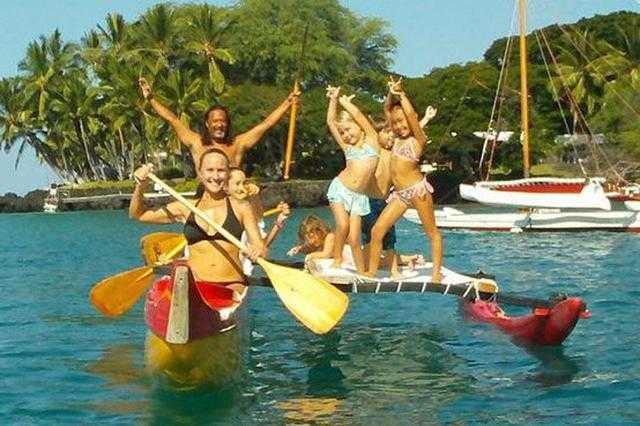kayak: (459, 2, 626, 211), (142, 233, 252, 347), (305, 256, 498, 297), (459, 178, 612, 210), (511, 209, 639, 232)
